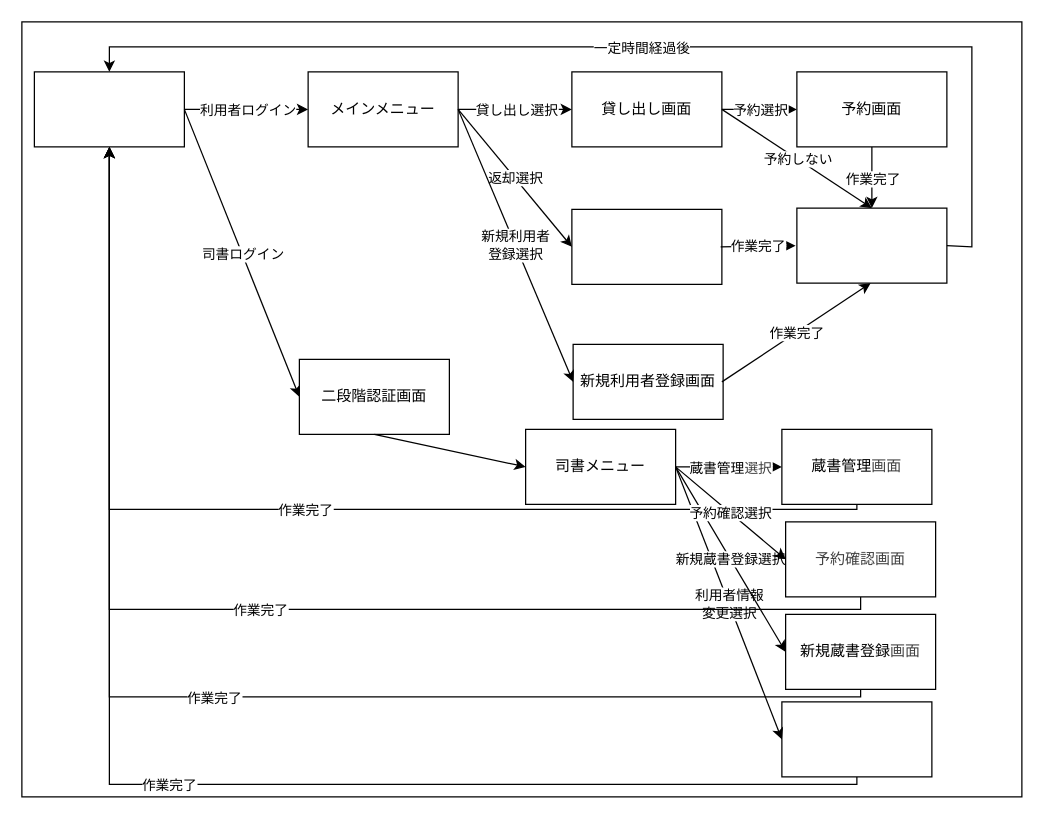
This 1044x819 diagram has some shape labels left out. Each missing label, with the centre of its shape:
"ログイン画面" goes at (108,109).
"利用者情報変更画面" goes at (856,739).
"完了画面" goes at (871,245).
"返却画面" goes at (646,246).
